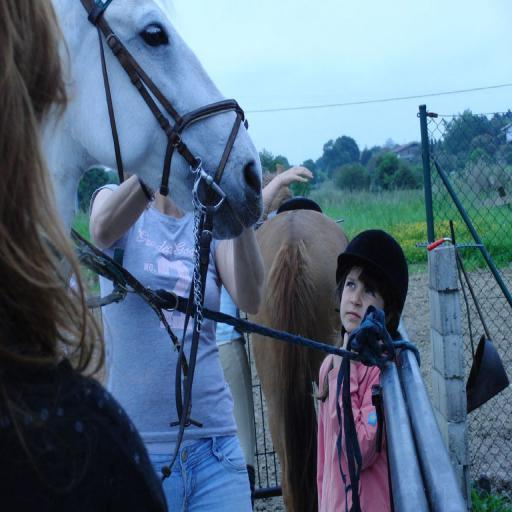horse: (20, 0, 265, 277), (240, 162, 350, 510)
